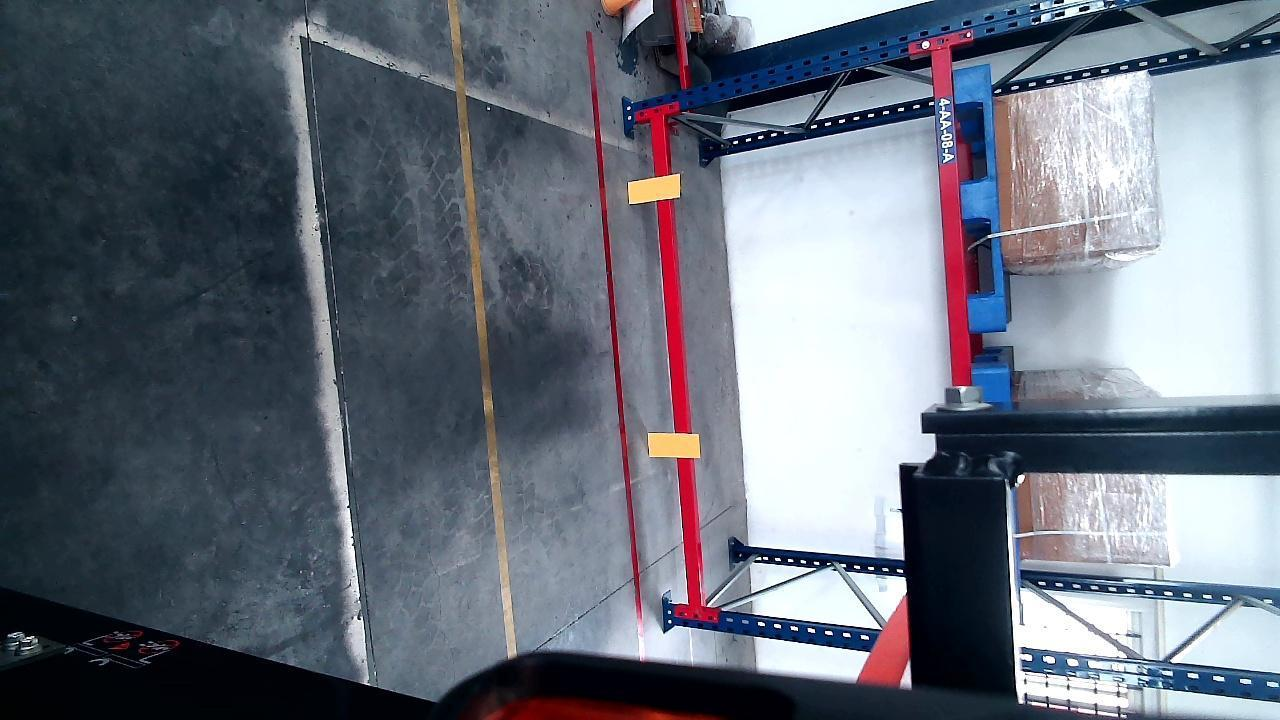h_rack: (649, 118, 702, 609), (932, 42, 970, 377)
orange_strip: (625, 174, 679, 203), (649, 431, 700, 458)
red_line: (589, 39, 642, 632)
small_pallet: (958, 62, 1005, 324)
